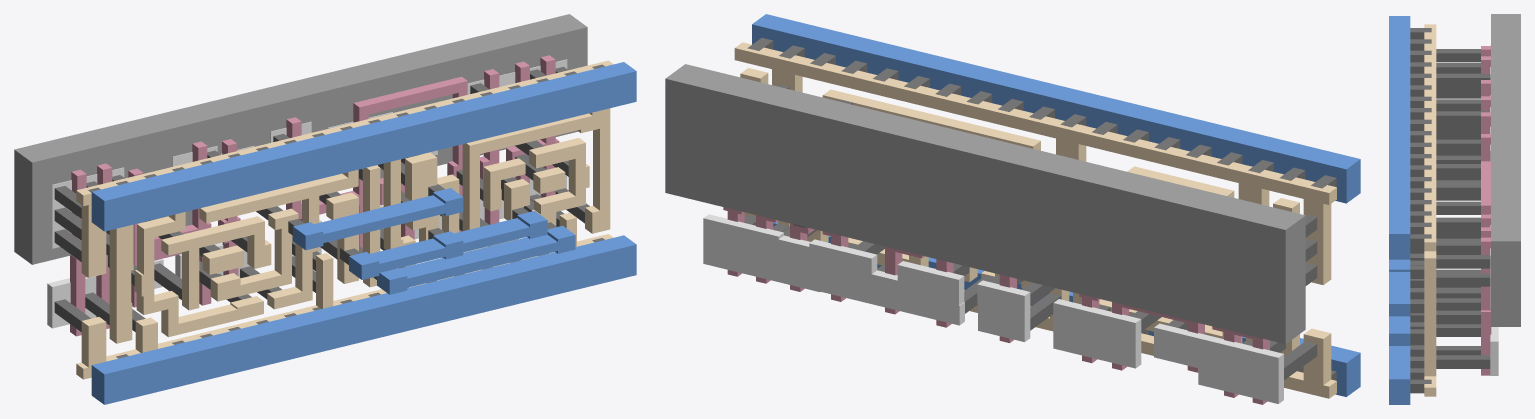
The model's file is sky130_fd_sc_hd__xnor3_2.gds.gltf.
3 renders of one model, left to right at view 1: azimuth 30°, elevation 25°; view 2: azimuth 150°, elevation 25°; view 3: azimuth 270°, elevation 25°, orthographic. The views are drawn at different scales.
Parts seen in each view (by area): view 1: sky130_fd_sc_hd__xnor3_2_met1, sky130_fd_sc_hd__xnor3_2_li1, sky130_fd_sc_hd__xnor3_2_nwell, sky130_fd_sc_hd__xnor3_2_poly, sky130_fd_sc_hd__xnor3_2_licon, sky130_fd_sc_hd__xnor3_2_diff, sky130_fd_sc_hd__xnor3_2_mcon; view 2: sky130_fd_sc_hd__xnor3_2_nwell, sky130_fd_sc_hd__xnor3_2_diff, sky130_fd_sc_hd__xnor3_2_li1, sky130_fd_sc_hd__xnor3_2_met1, sky130_fd_sc_hd__xnor3_2_licon, sky130_fd_sc_hd__xnor3_2_mcon, sky130_fd_sc_hd__xnor3_2_poly; view 3: sky130_fd_sc_hd__xnor3_2_licon, sky130_fd_sc_hd__xnor3_2_nwell, sky130_fd_sc_hd__xnor3_2_met1, sky130_fd_sc_hd__xnor3_2_mcon, sky130_fd_sc_hd__xnor3_2_li1, sky130_fd_sc_hd__xnor3_2_poly, sky130_fd_sc_hd__xnor3_2_diff.
Boxes of the visible parts, <box> form: sky130_fd_sc_hd__xnor3_2_met1: <box>91,62,636,404</box>; sky130_fd_sc_hd__xnor3_2_li1: <box>76,60,613,379</box>; sky130_fd_sc_hd__xnor3_2_nwell: <box>14,14,587,264</box>; sky130_fd_sc_hd__xnor3_2_poly: <box>70,55,559,336</box>; sky130_fd_sc_hd__xnor3_2_licon: <box>54,66,589,331</box>; sky130_fd_sc_hd__xnor3_2_diff: <box>47,59,567,328</box>; sky130_fd_sc_hd__xnor3_2_mcon: <box>88,64,604,358</box>; sky130_fd_sc_hd__xnor3_2_nwell: <box>665,64,1305,344</box>; sky130_fd_sc_hd__xnor3_2_diff: <box>703,214,1283,403</box>; sky130_fd_sc_hd__xnor3_2_li1: <box>734,42,1336,398</box>; sky130_fd_sc_hd__xnor3_2_met1: <box>752,14,1360,396</box>; sky130_fd_sc_hd__xnor3_2_licon: <box>744,84,1317,380</box>; sky130_fd_sc_hd__xnor3_2_mcon: <box>747,38,1336,380</box>; sky130_fd_sc_hd__xnor3_2_poly: <box>723,207,1269,404</box>; sky130_fd_sc_hd__xnor3_2_licon: <box>1436,49,1490,368</box>; sky130_fd_sc_hd__xnor3_2_nwell: <box>1491,14,1520,326</box>; sky130_fd_sc_hd__xnor3_2_met1: <box>1389,16,1410,404</box>; sky130_fd_sc_hd__xnor3_2_mcon: <box>1410,28,1431,393</box>; sky130_fd_sc_hd__xnor3_2_li1: <box>1424,24,1436,396</box>; sky130_fd_sc_hd__xnor3_2_poly: <box>1481,46,1491,375</box>; sky130_fd_sc_hd__xnor3_2_diff: <box>1490,44,1498,375</box>.
Size of the model in its own units: 9.12 by 3.2 by 2.24.
